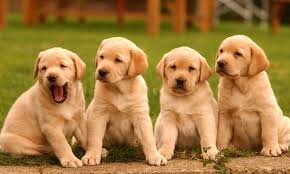dog: (82, 33, 166, 168), (206, 26, 288, 157), (1, 46, 91, 163), (153, 41, 223, 167)
